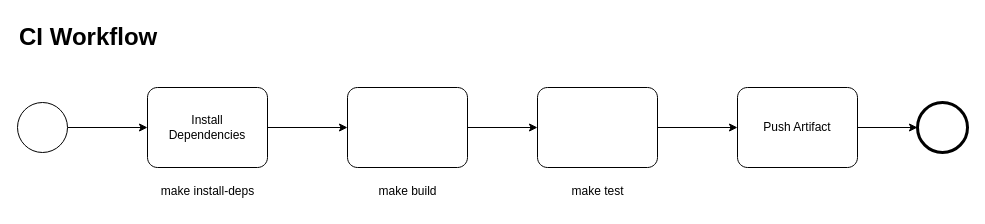
Some shapes in this 985 by 224 pixel diagram are drawn without their labels. Here are the shapes that lost their labels. From the top down, the centre of each, then its label:
At pixel 407 127: "Build".
At pixel 597 127: "Test".
